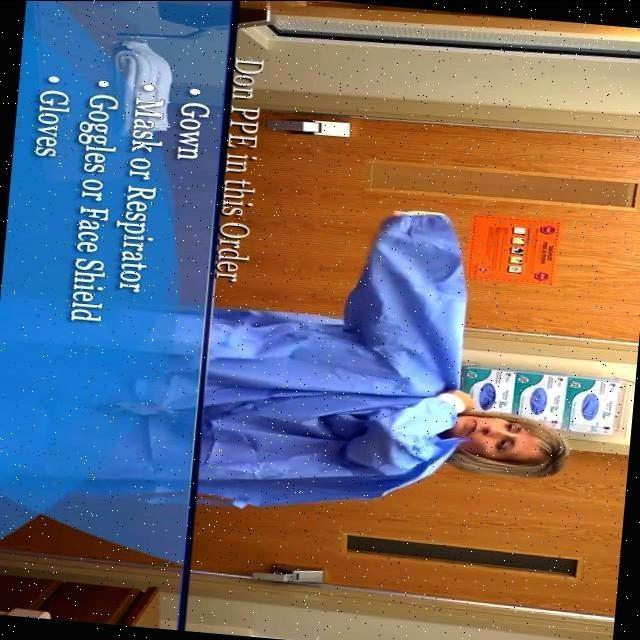no_hairnet: (455, 416, 500, 442)
